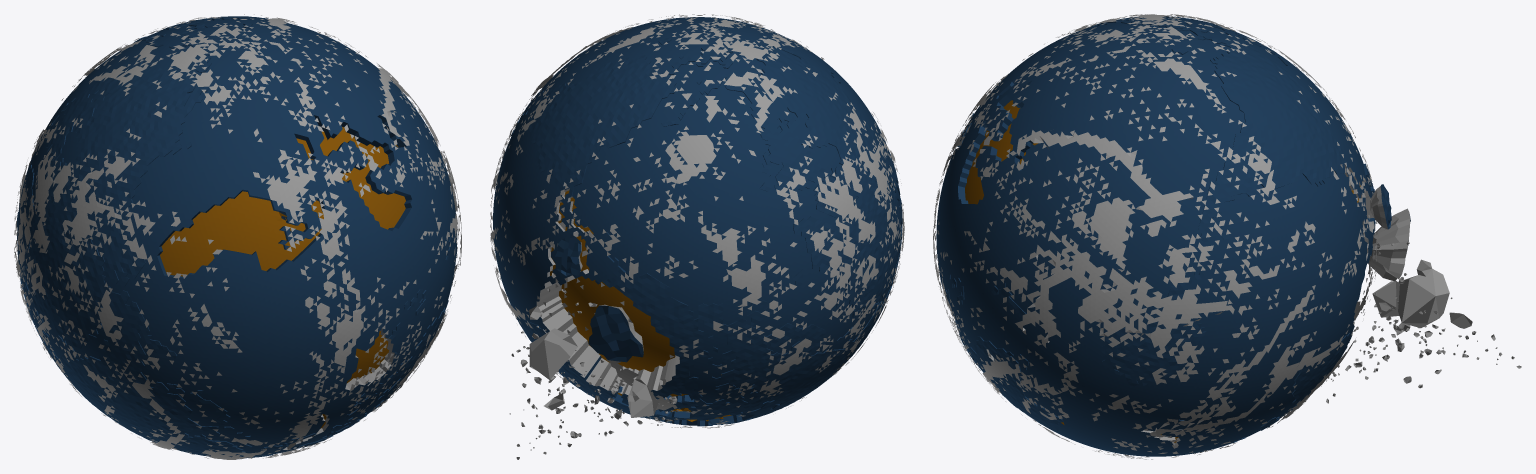
File: EarthBattle.FBX
3 renders of one model, left to right at view 1: azimuth 30°, elevation 25°; view 2: azimuth 150°, elevation 25°; view 3: azimuth 270°, elevation 25°, orthographic. The views are drawn at different scales.
Visible parts, largest first — view 1: NewEarth, Clouds; view 2: NewEarth, Clouds; view 3: NewEarth, Clouds.
Part boxes in pixels (x1=…): NewEarth: x1=16, y1=16, x2=457, y2=458; Clouds: x1=14, y1=14, x2=461, y2=459; NewEarth: x1=493, y1=17, x2=902, y2=459; Clouds: x1=490, y1=14, x2=904, y2=428; NewEarth: x1=936, y1=16, x2=1521, y2=456; Clouds: x1=933, y1=14, x2=1378, y2=459.
Bounding box in the file's own units: 0.1361 × 0.1357 × 0.1791.
